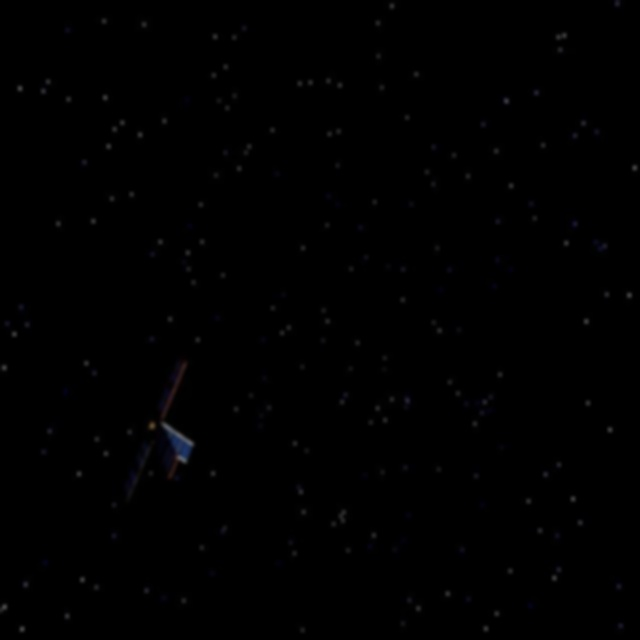medium_debris: (107, 353, 203, 507)
